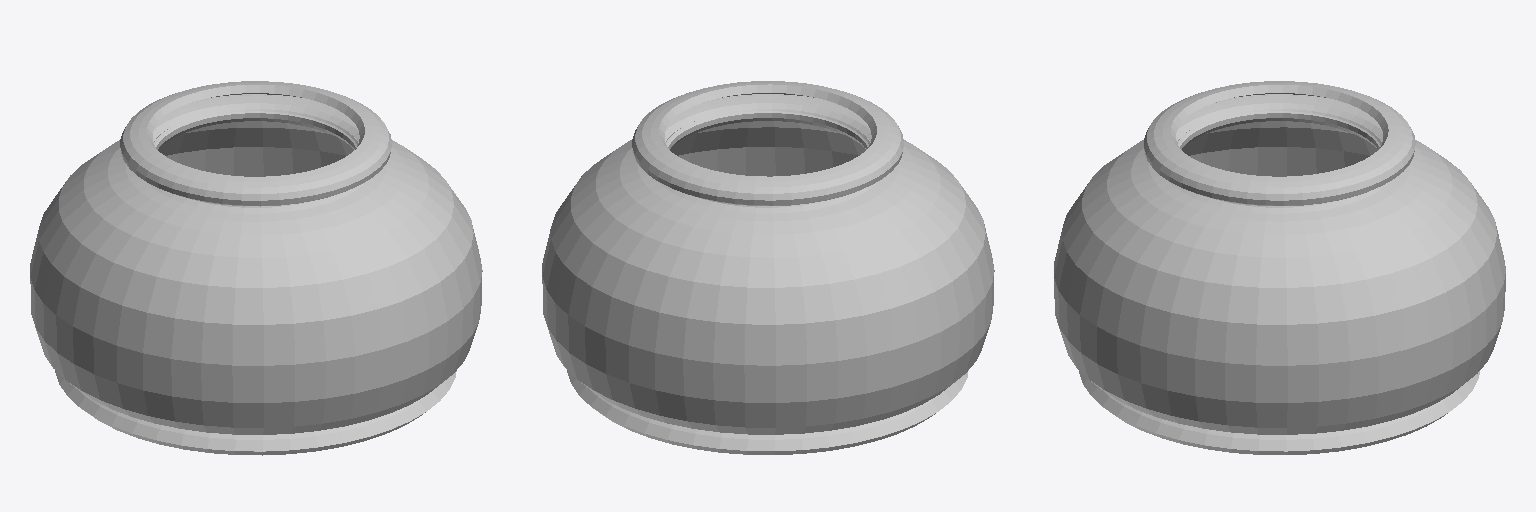
The model's file is Fishandbowlandcastle3.obj.
The picture shows the model from 3 angles: view 1: azimuth 30°, elevation 25°; view 2: azimuth 150°, elevation 25°; view 3: azimuth 270°, elevation 25°; orthographic projection.
Visible parts, largest first — view 1: revolvedSurface1; view 2: revolvedSurface1; view 3: revolvedSurface1.
Part boxes in pixels (x1,y1,x2,y2): revolvedSurface1: (30, 81, 482, 455); revolvedSurface1: (542, 81, 994, 454); revolvedSurface1: (1054, 81, 1505, 454).
Size of the model in its own units: 27.1 by 16.57 by 27.08.